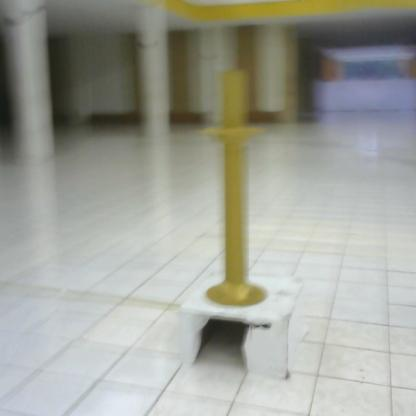pole: (197, 70, 275, 317)
